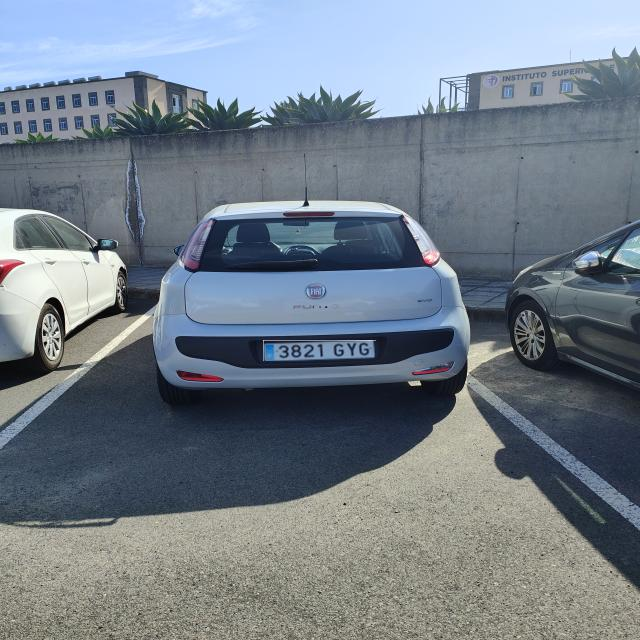License-Plate: (263, 340, 376, 361)
